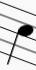note: (6, 1, 32, 68)
